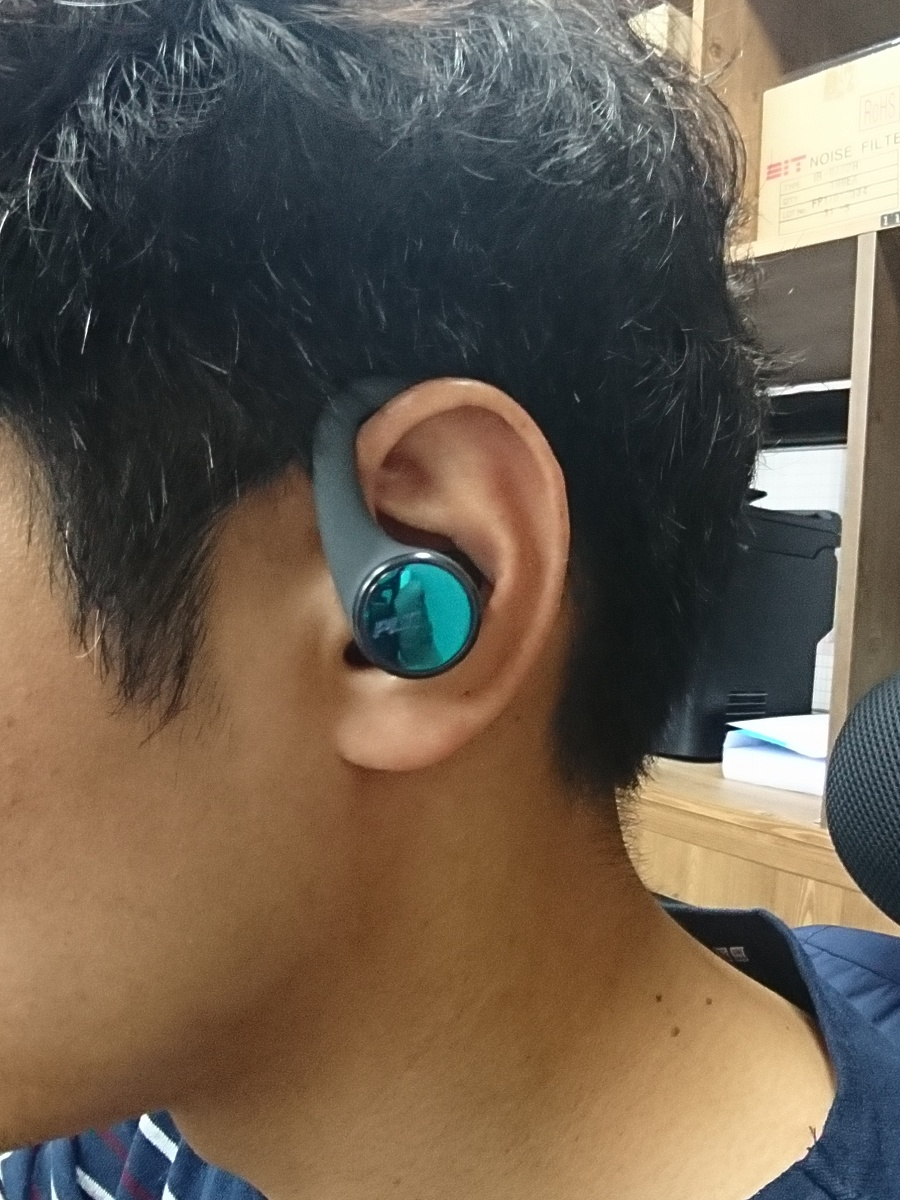earphone: (327, 376, 573, 774)
